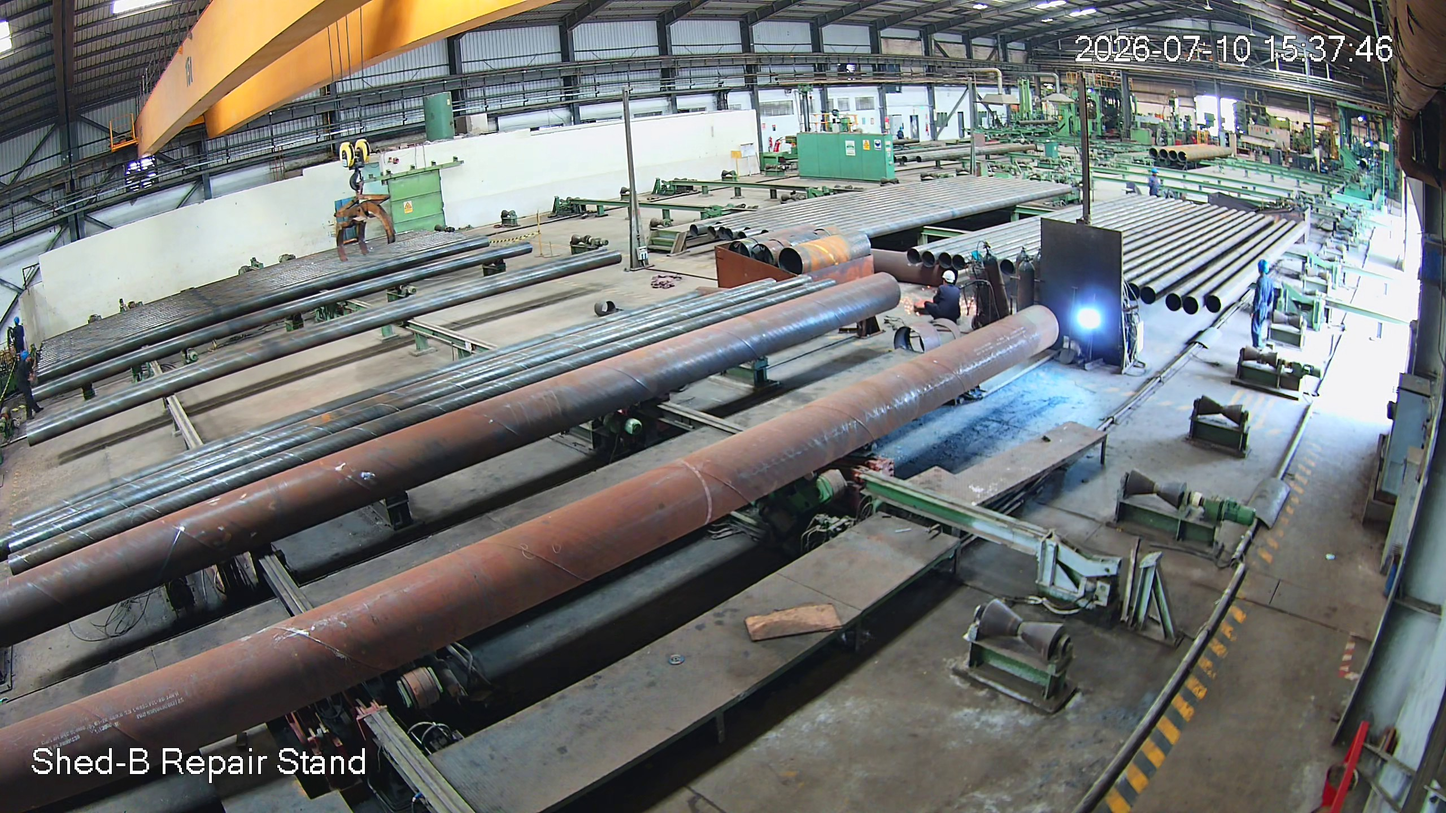Helmet: (1254, 253, 1271, 287), (939, 268, 959, 291)
Person: (1248, 257, 1273, 365), (927, 270, 960, 329)
